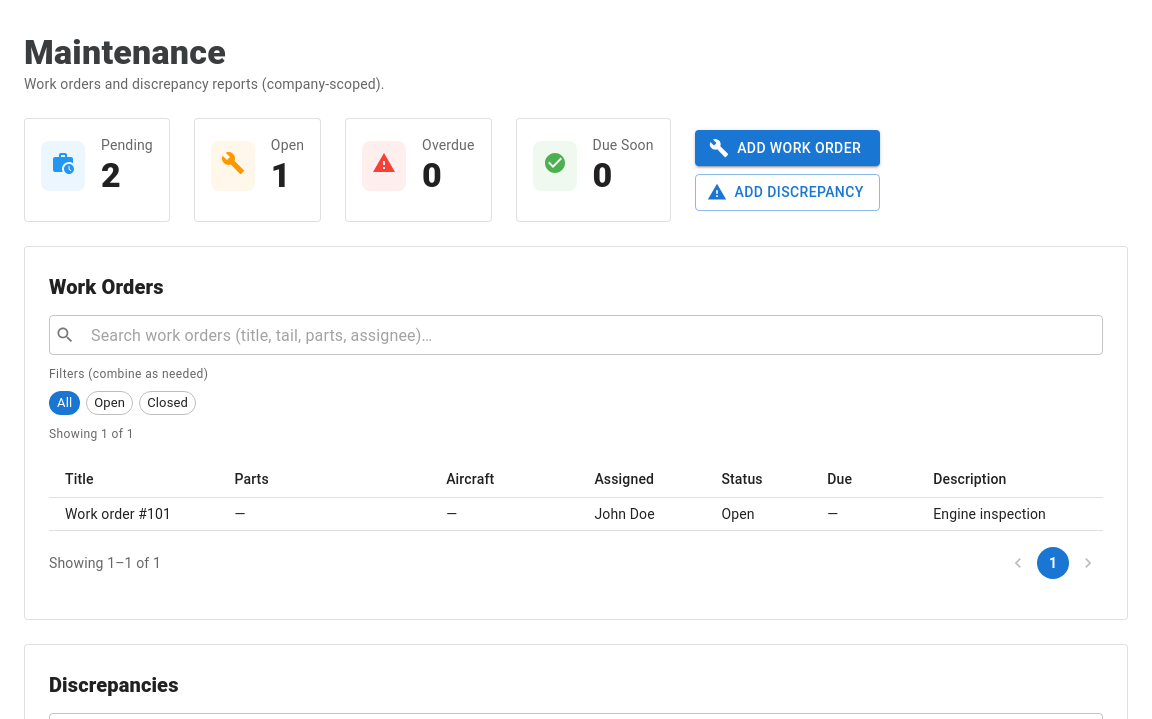
it: Maintenance page › opens add discrepancy form when button is clicked
Expected: the dialog "create discrepancy" is not shown
Click the button "Add Discrepancy" at (787, 192), box [695, 174, 880, 210]
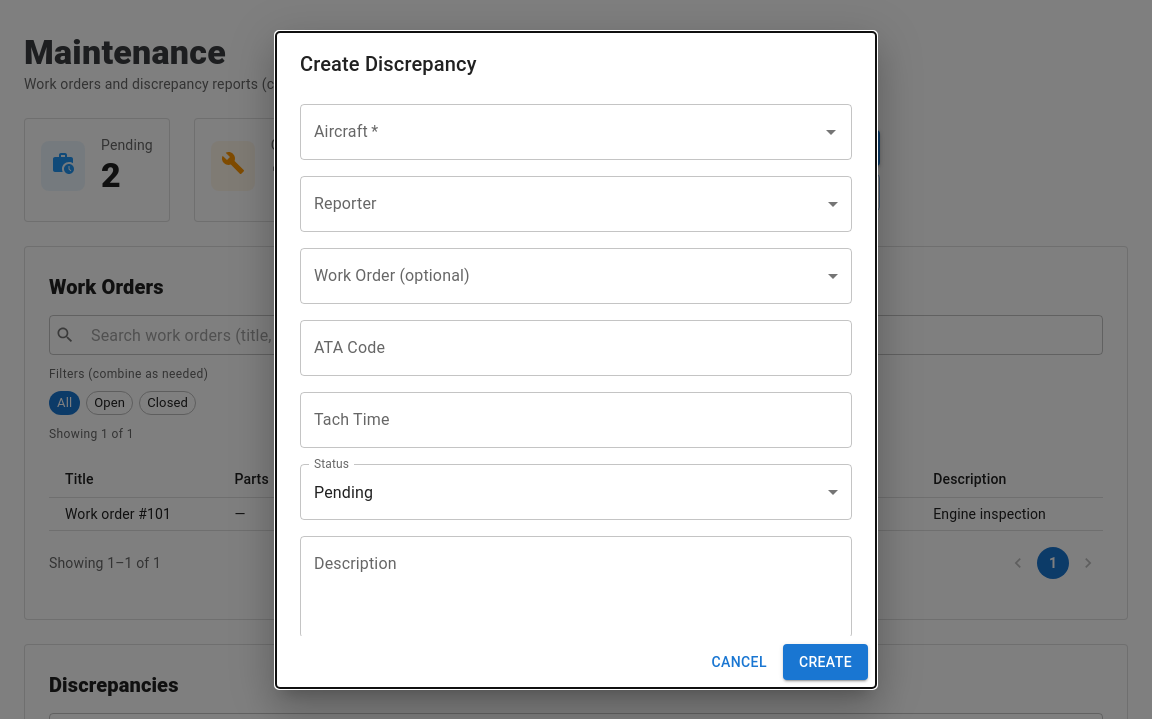
Result: the dialog "Create Discrepancy" is shown at [276, 32, 876, 688]
